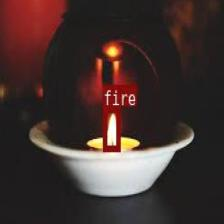fire: (102, 106, 120, 151)
